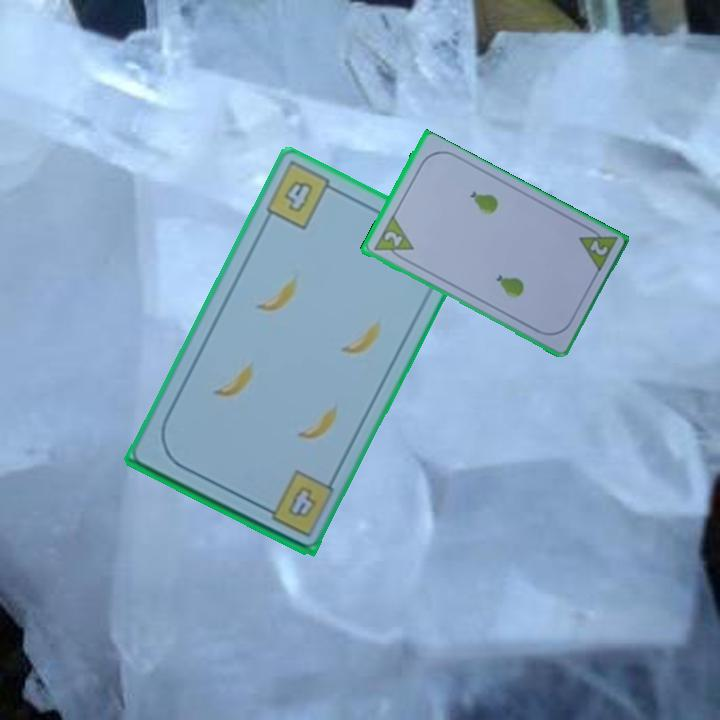2p: (574, 221, 619, 276), (369, 213, 416, 265)
4b: (261, 158, 342, 233), (283, 481, 319, 521)
